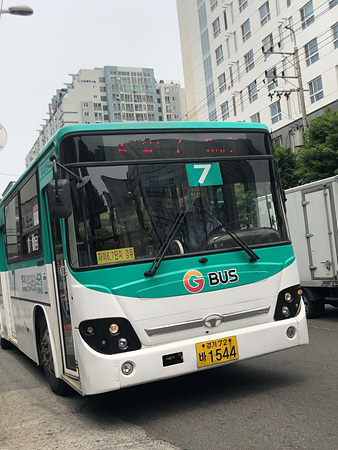bnum: (192, 161, 217, 184)
